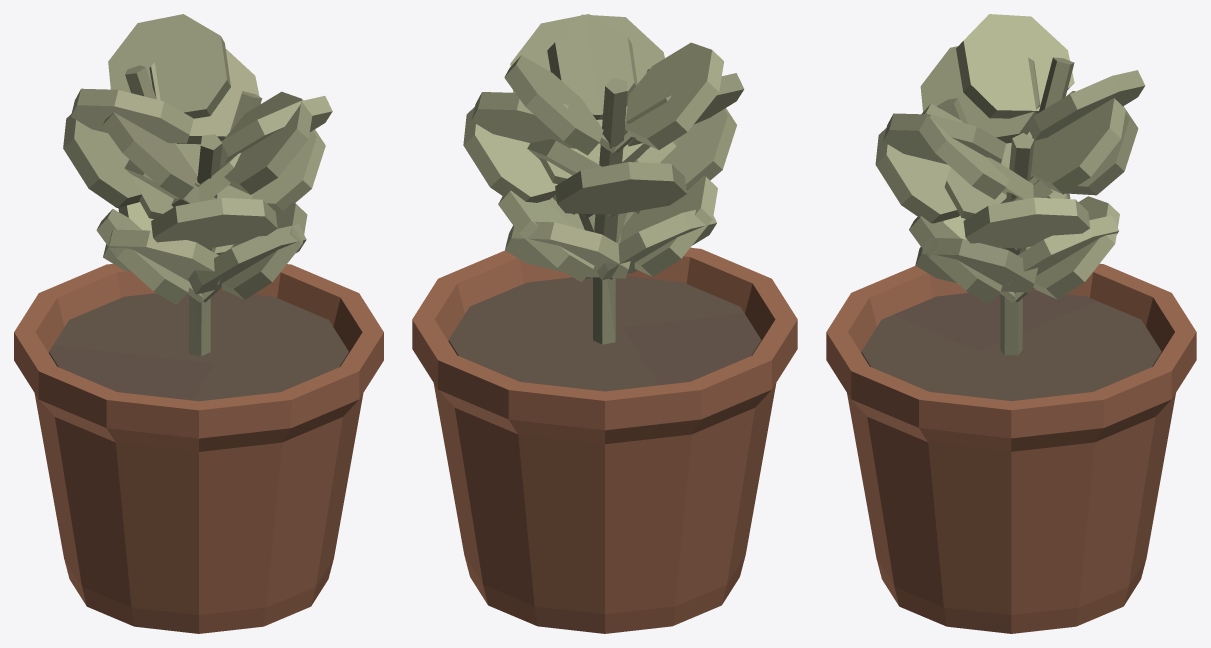
Rendered from new-luciae.glb.
3 views of the same model, side by side, from view 1: azimuth 30°, elevation 25°; view 2: azimuth 150°, elevation 25°; view 3: azimuth 270°, elevation 25° (orthographic). The views are drawn at different scales.
Visible parts, largest first — view 1: new-luciae/review-terra-vessel, new-luciae/review-rooted-soil, new-luciae/leaf-024, new-luciae/leaf-033, new-luciae/leaf-039, new-luciae/leaf-020, new-luciae/leaf-026, new-luciae/leaf-037, new-luciae/leaf-018, new-luciae/leaf-003, new-luciae/leaf-029, new-luciae/leaf-031 (+10 smaller); view 2: new-luciae/review-terra-vessel, new-luciae/review-rooted-soil, new-luciae/leaf-026, new-luciae/leaf-020, new-luciae/leaf-024, new-luciae/leaf-039, new-luciae/leaf-007, new-luciae/leaf-011, new-luciae/leaf-018, new-luciae/leaf-005, new-luciae/leaf-033, new-luciae/leaf-013 (+8 smaller); view 3: new-luciae/review-terra-vessel, new-luciae/review-rooted-soil, new-luciae/leaf-026, new-luciae/leaf-013, new-luciae/leaf-007, new-luciae/leaf-033, new-luciae/leaf-031, new-luciae/leaf-037, new-luciae/leaf-039, new-luciae/leaf-024, new-luciae/leaf-011, new-luciae/leaf-005 (+8 smaller).
Part boxes in pixels (x1,y1,x2,y2): new-luciae/review-terra-vessel: (14,264,383,633); new-luciae/review-rooted-soil: (49,290,348,401); new-luciae/leaf-024: (108,14,230,118); new-luciae/leaf-033: (151,198,277,248); new-luciae/leaf-039: (220,91,312,194); new-luciae/leaf-020: (63,114,141,207); new-luciae/leaf-026: (71,88,193,143); new-luciae/leaf-037: (102,112,197,199); new-luciae/leaf-018: (103,229,220,284); new-luciae/leaf-003: (188,224,306,294); new-luciae/leaf-029: (96,209,190,304); new-luciae/leaf-031: (221,202,307,299); new-luciae/review-terra-vessel: (412,247,797,633); new-luciae/review-rooted-soil: (448,276,761,391); new-luciae/leaf-026: (625,42,723,149); new-luciae/leaf-020: (555,162,686,214); new-luciae/leaf-024: (504,55,603,155); new-luciae/leaf-039: (547,14,664,119); new-luciae/leaf-007: (463,107,557,202); new-luciae/leaf-011: (510,14,637,119); new-luciae/leaf-018: (620,176,717,276); new-luciae/leaf-005: (505,221,630,278); new-luciae/leaf-033: (660,108,736,189); new-luciae/leaf-013: (471,92,599,148); new-luciae/review-terra-vessel: (826,263,1196,633); new-luciae/review-rooted-soil: (861,290,1161,400); new-luciae/leaf-026: (956,14,1074,118); new-luciae/leaf-013: (1030,98,1125,194); new-luciae/leaf-007: (963,197,1090,248); new-luciae/leaf-033: (875,128,959,223); new-luciae/leaf-031: (915,237,1037,292); new-luciae/leaf-037: (920,46,1040,143); new-luciae/leaf-039: (883,113,1005,164); new-luciae/leaf-024: (1027,70,1145,140); new-luciae/leaf-011: (919,103,1008,199); new-luciae/leaf-005: (1033,196,1119,299).
Size of the model in its own units: 0.19 by 0.2947 by 0.19.
3 materials, 3 textured.
